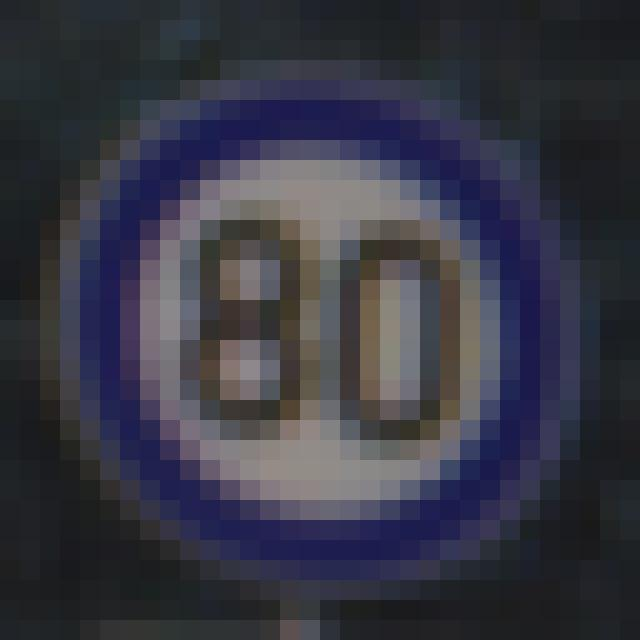SPEED-LIMIT-80: (66, 83, 568, 587)
